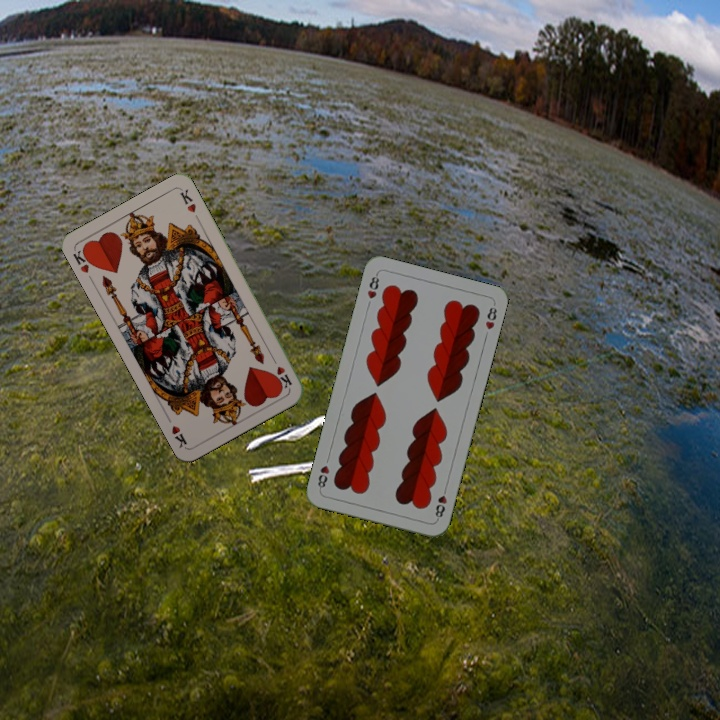H8: (431, 483, 450, 523), (363, 270, 382, 301)
HK: (268, 352, 295, 390), (69, 243, 96, 276)
